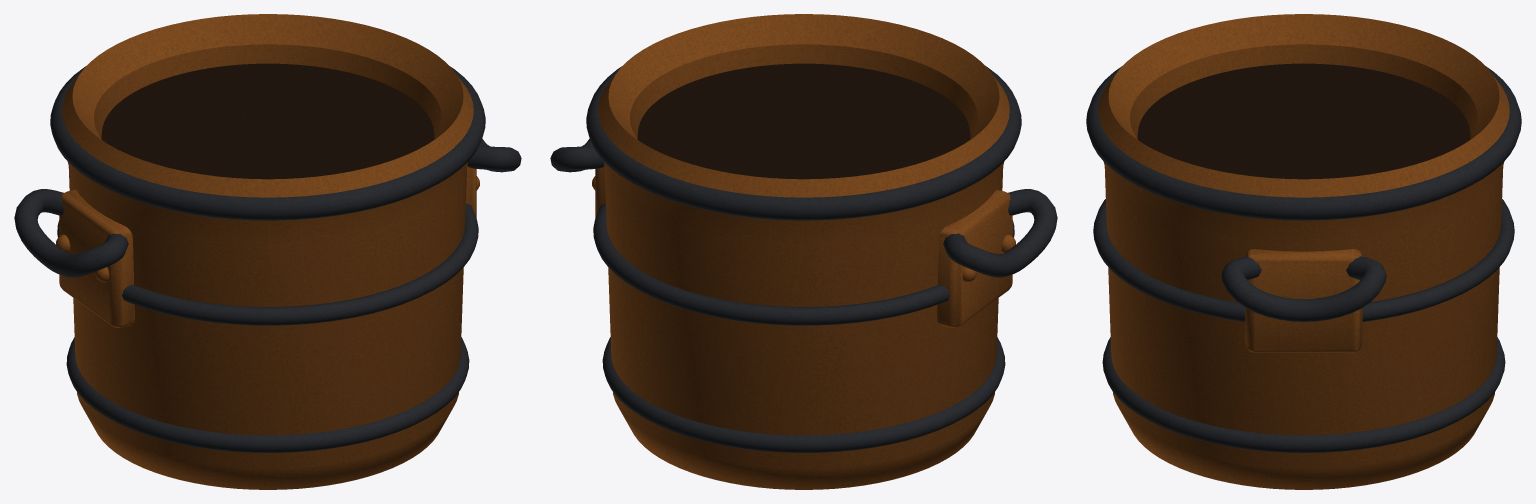
File: quench-oil.glb
The picture shows the model from 3 angles, left to right: view 1: azimuth 30°, elevation 25°; view 2: azimuth 150°, elevation 25°; view 3: azimuth 270°, elevation 25°; orthographic projection.
Visible parts, largest first — view 1: quench-oil; view 2: quench-oil; view 3: quench-oil.
Boxes of the visible parts, left/top/right/bottom form: quench-oil: left=14, top=14, right=521, bottom=489; quench-oil: left=550, top=14, right=1057, bottom=489; quench-oil: left=1086, top=14, right=1521, bottom=489.
Size of the model in its own units: 1.33 by 0.92 by 1.11.
3 materials, 3 textured.
